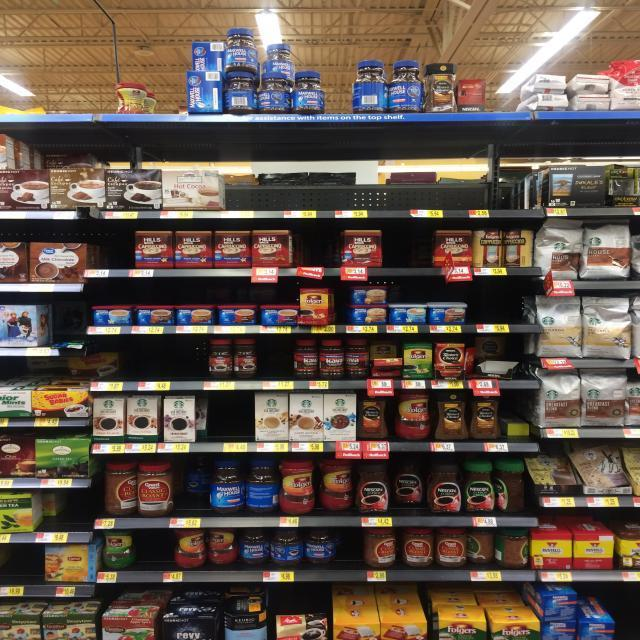empty: (139, 338, 202, 390), (334, 175, 407, 217), (212, 392, 254, 452), (468, 284, 519, 332), (224, 176, 280, 217), (410, 175, 462, 217), (283, 175, 332, 218), (466, 174, 512, 218), (258, 336, 293, 389), (386, 230, 428, 274), (139, 529, 173, 582), (9, 544, 43, 596), (61, 488, 89, 542), (103, 228, 133, 276), (305, 230, 330, 276), (115, 340, 138, 390), (346, 529, 361, 581)
